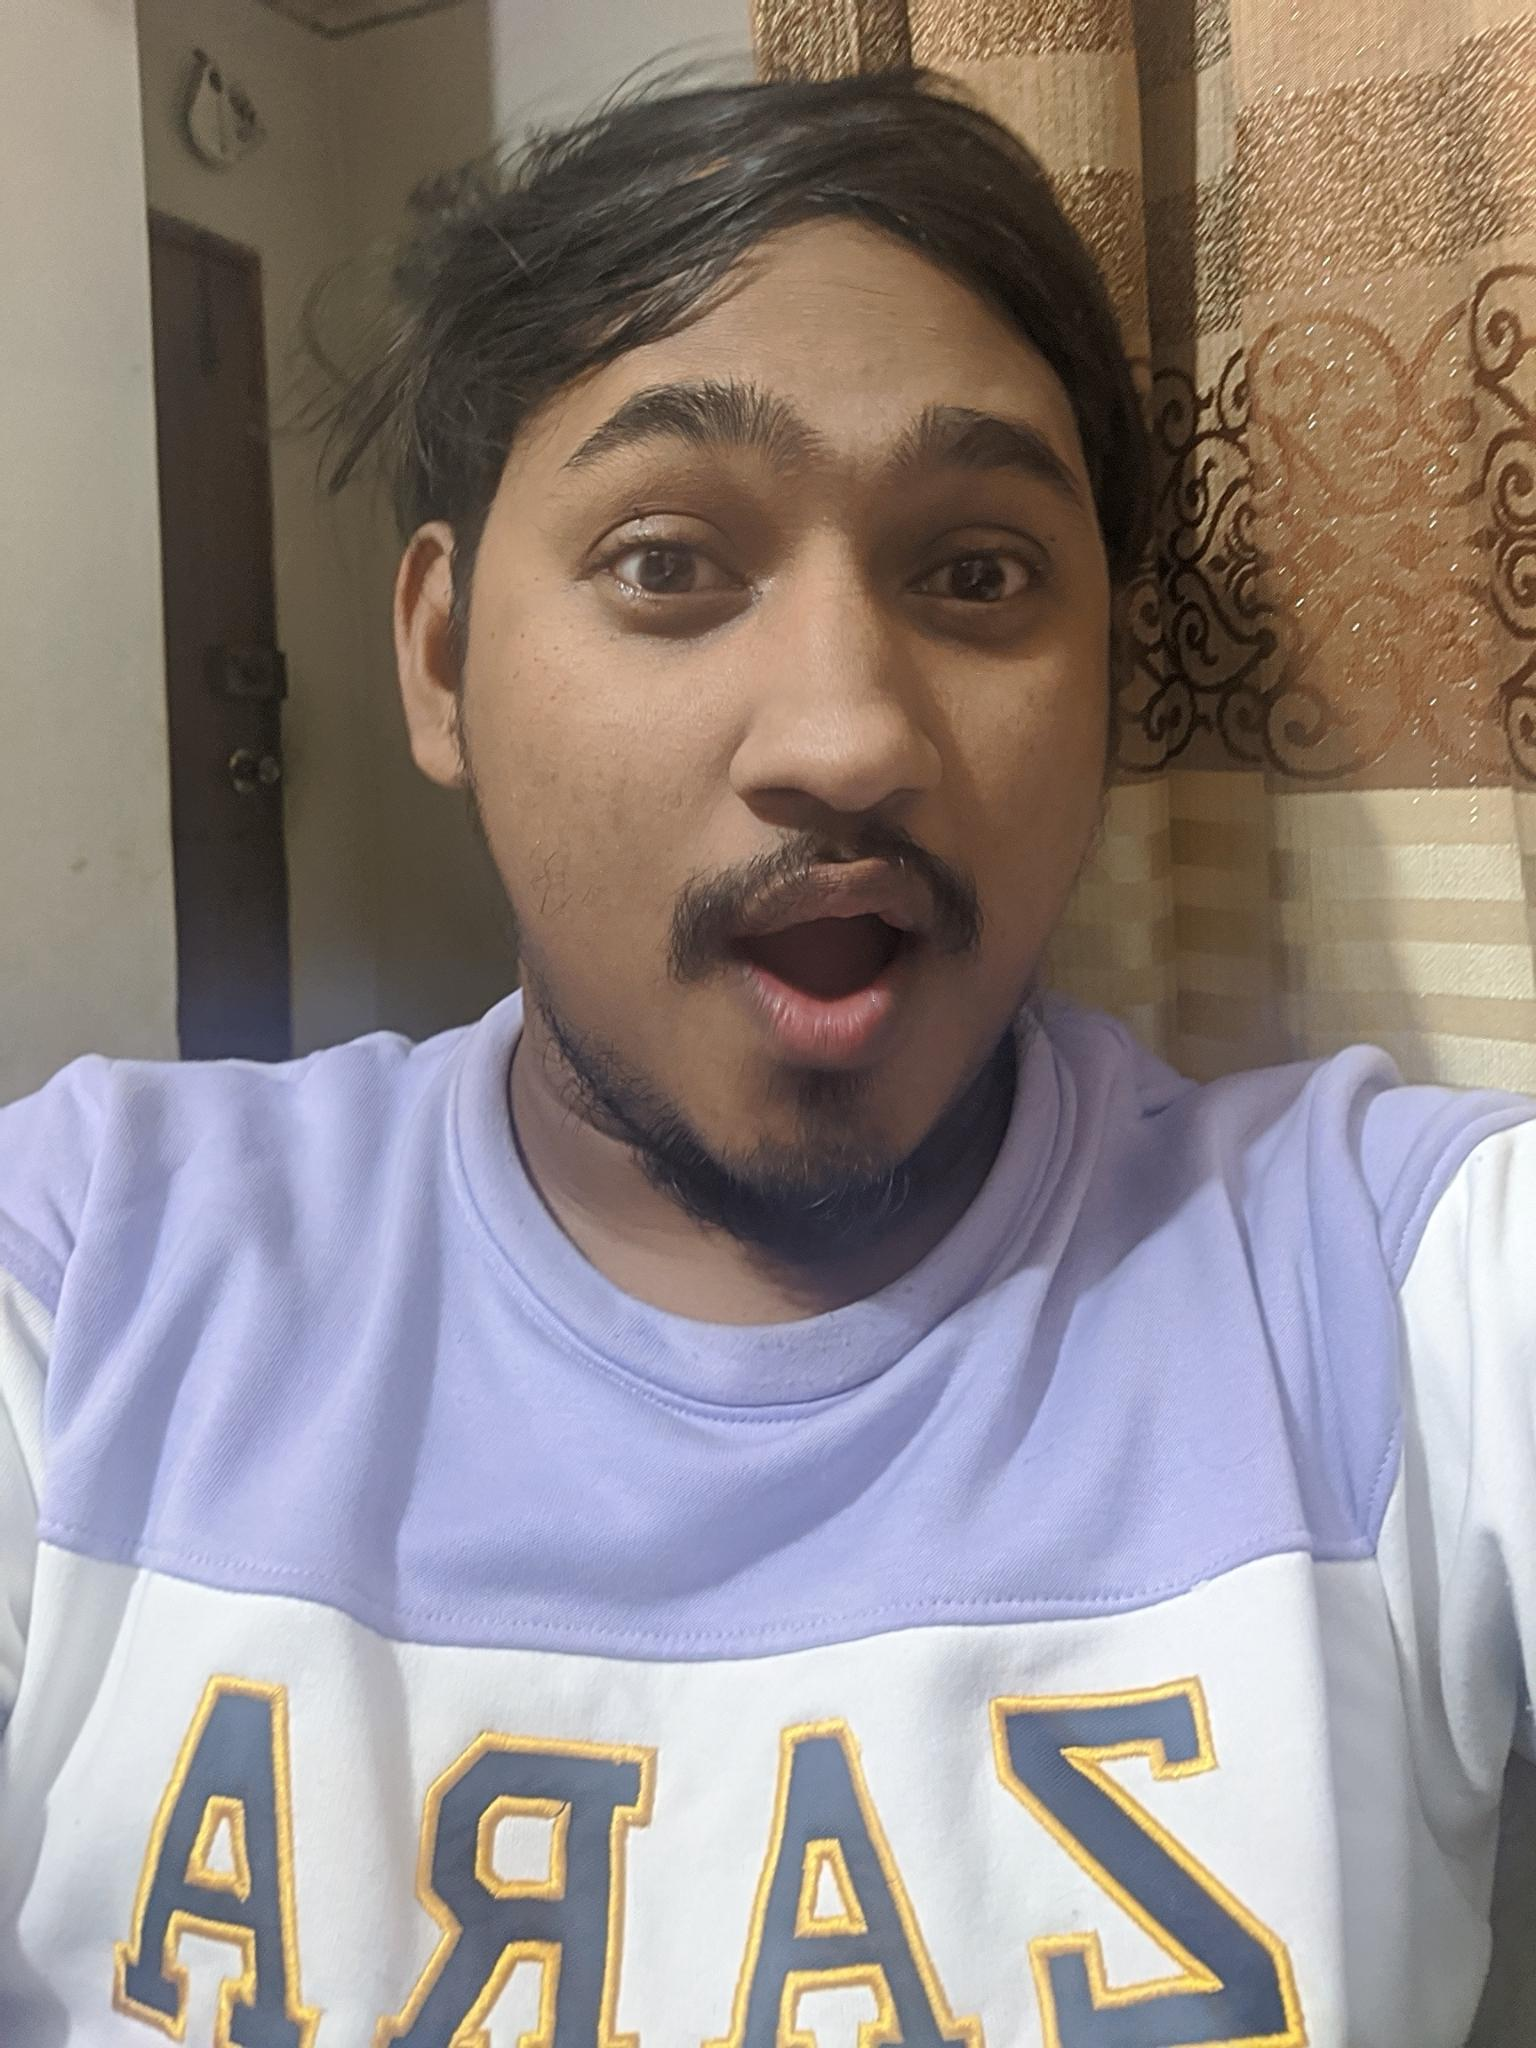Surprise: (463, 316, 1126, 1248)
